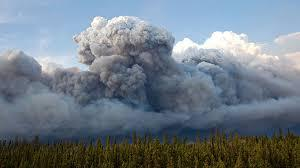smoke: (1, 12, 300, 140)
